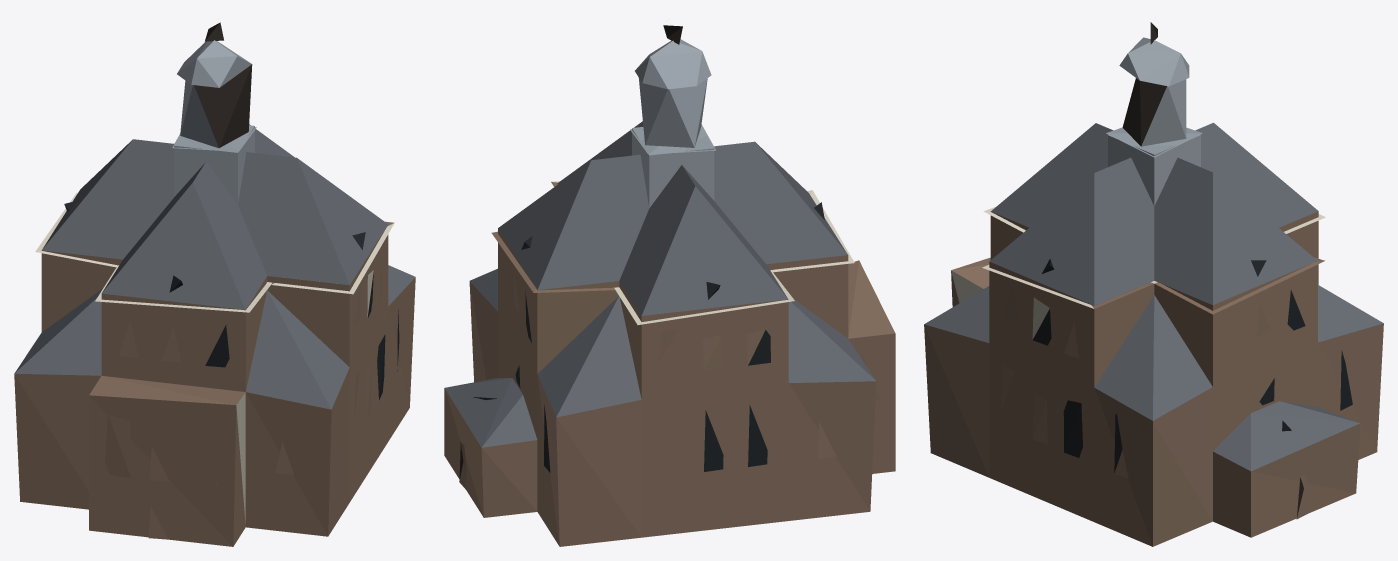
The model's file is oosterkerk.lod2.glb.
The picture shows the model from 3 angles, left to right: view 1: azimuth 30°, elevation 25°; view 2: azimuth 150°, elevation 25°; view 3: azimuth 270°, elevation 25°; orthographic projection. The views are drawn at different scales.
Parts seen in each view (by area): view 1: lod2; view 2: lod2; view 3: lod2.
Part boxes in pixels (x1=…): lod2: x1=14, y1=22, x2=415, y2=546; lod2: x1=444, y1=25, x2=895, y2=546; lod2: x1=924, y1=22, x2=1383, y2=546.
Bounding box in the file's own units: 43.35 × 45.6 × 43.35.
